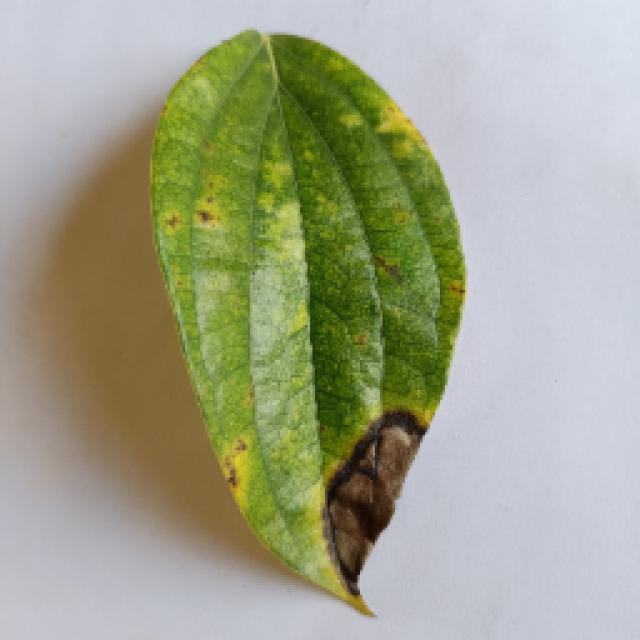footrot: (145, 28, 460, 610)
